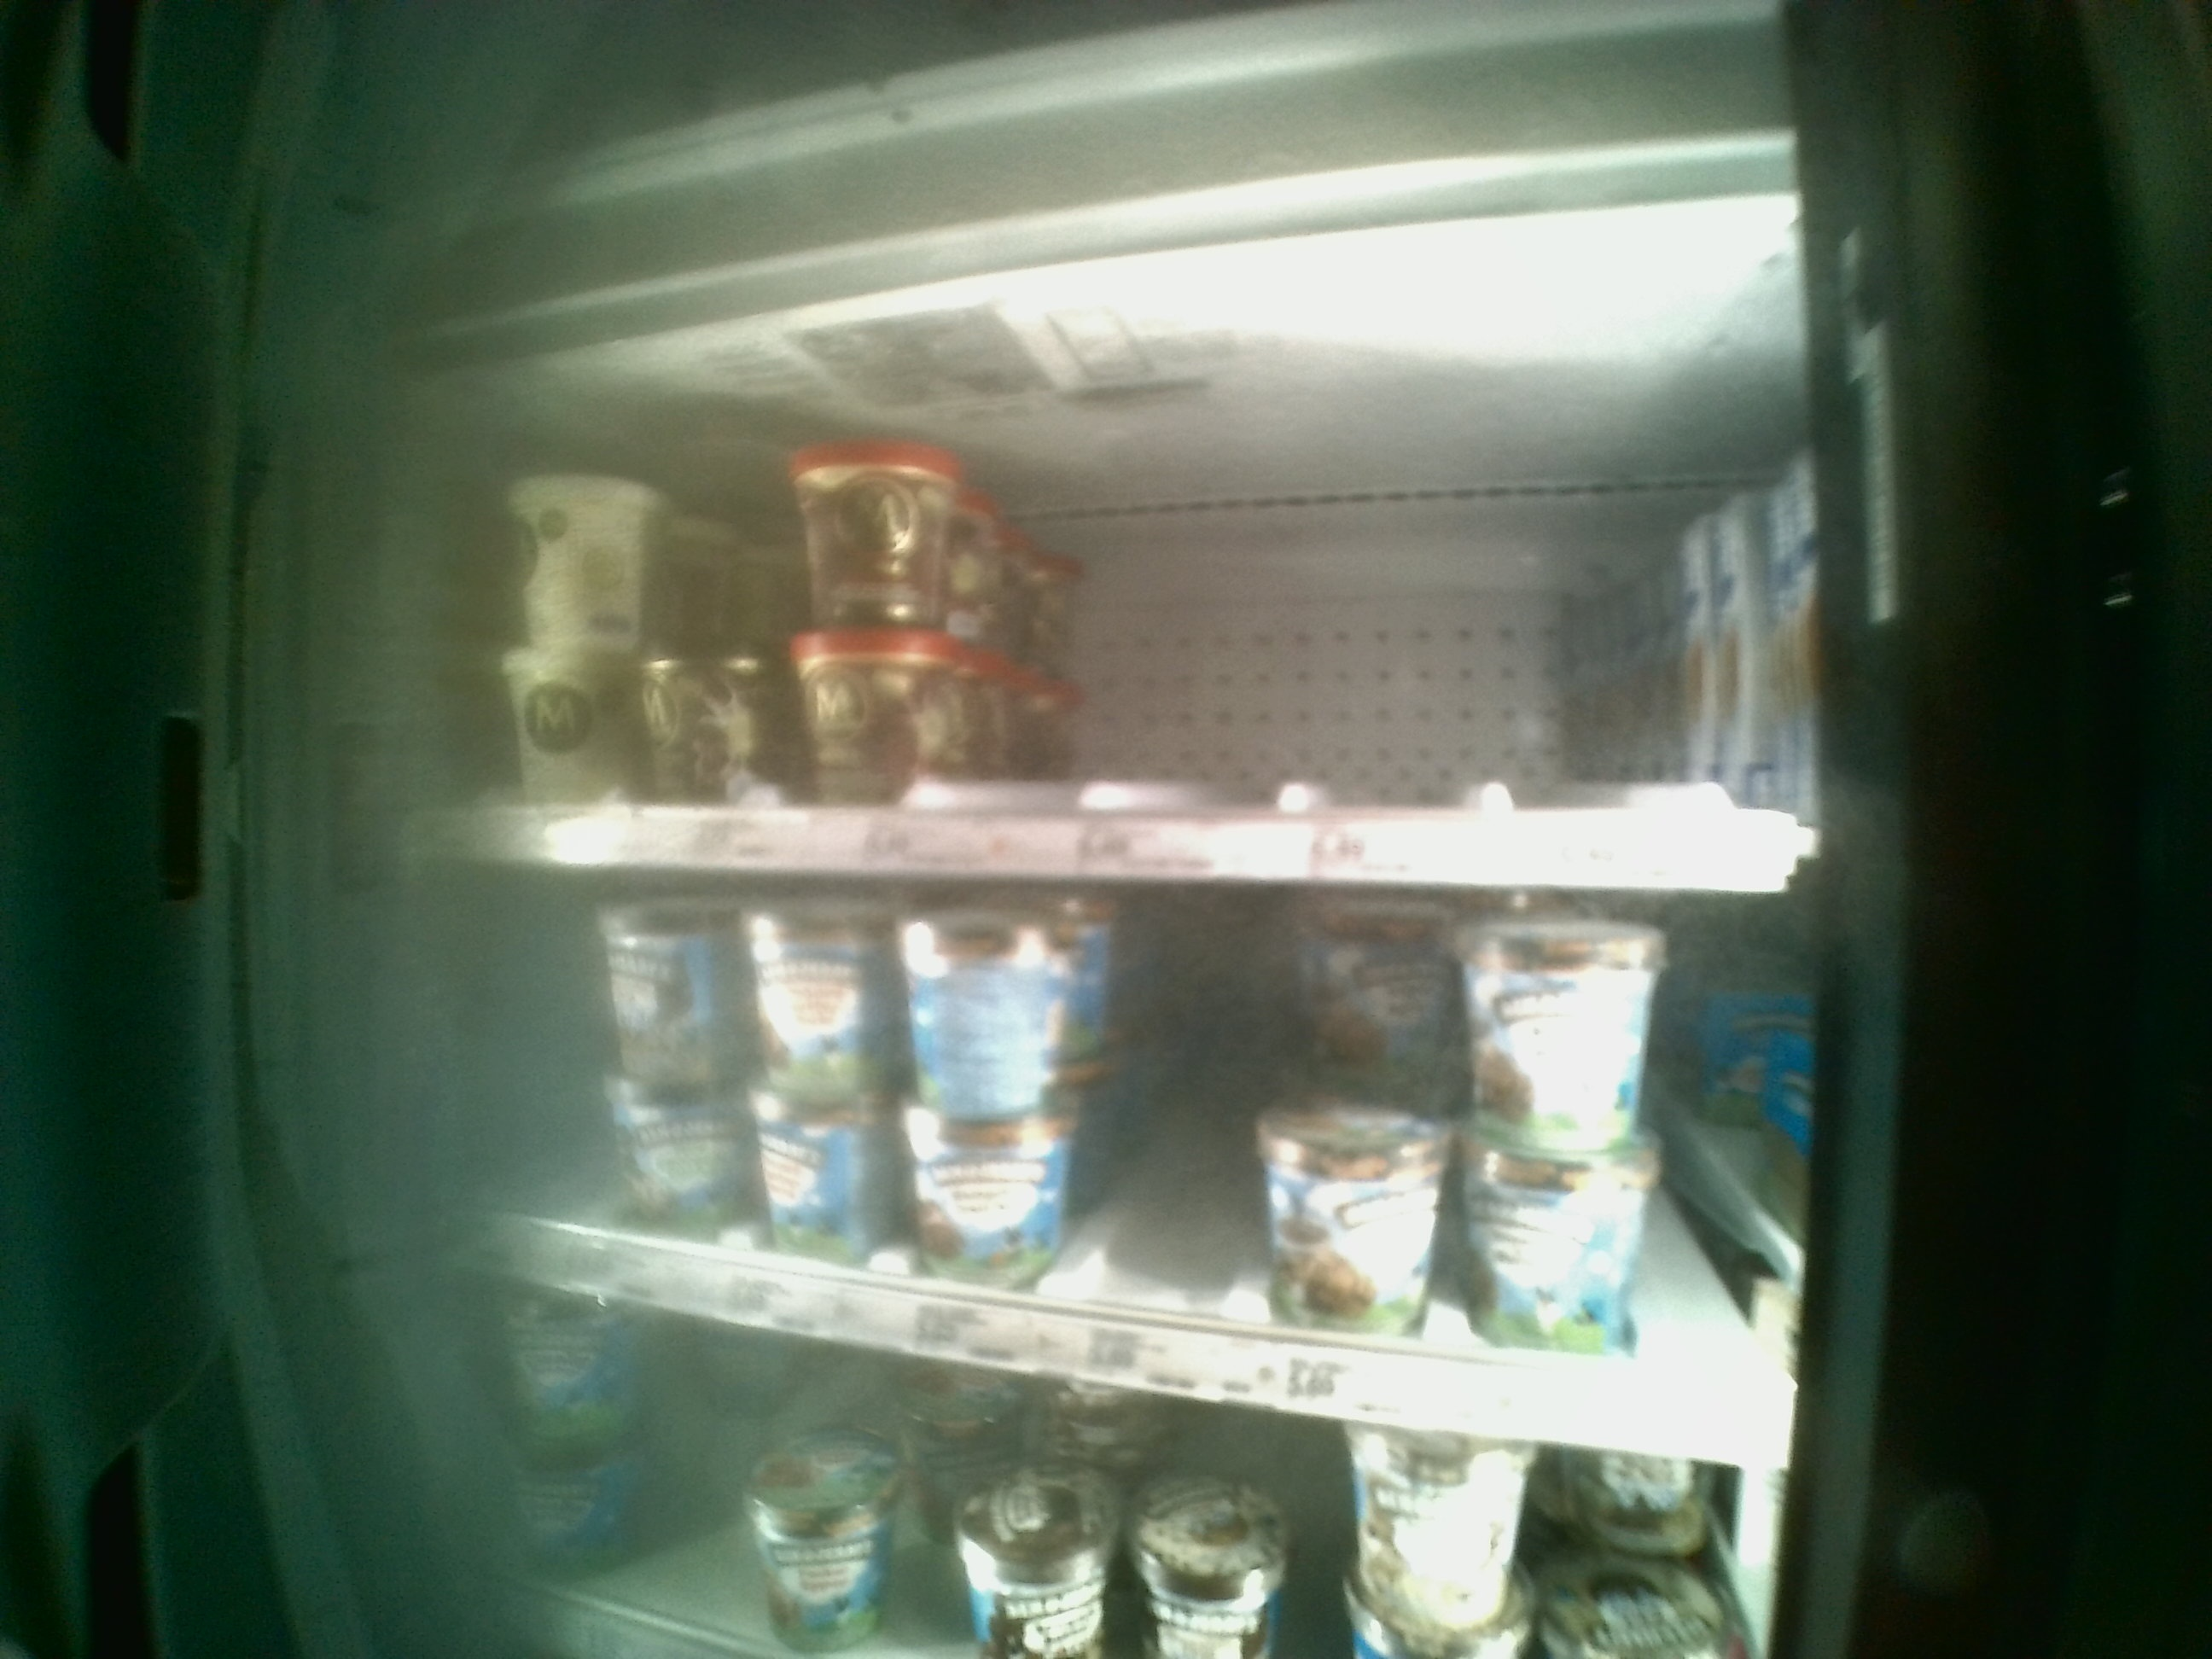shelf: (395, 873, 1806, 1453), (404, 382, 1827, 877)
